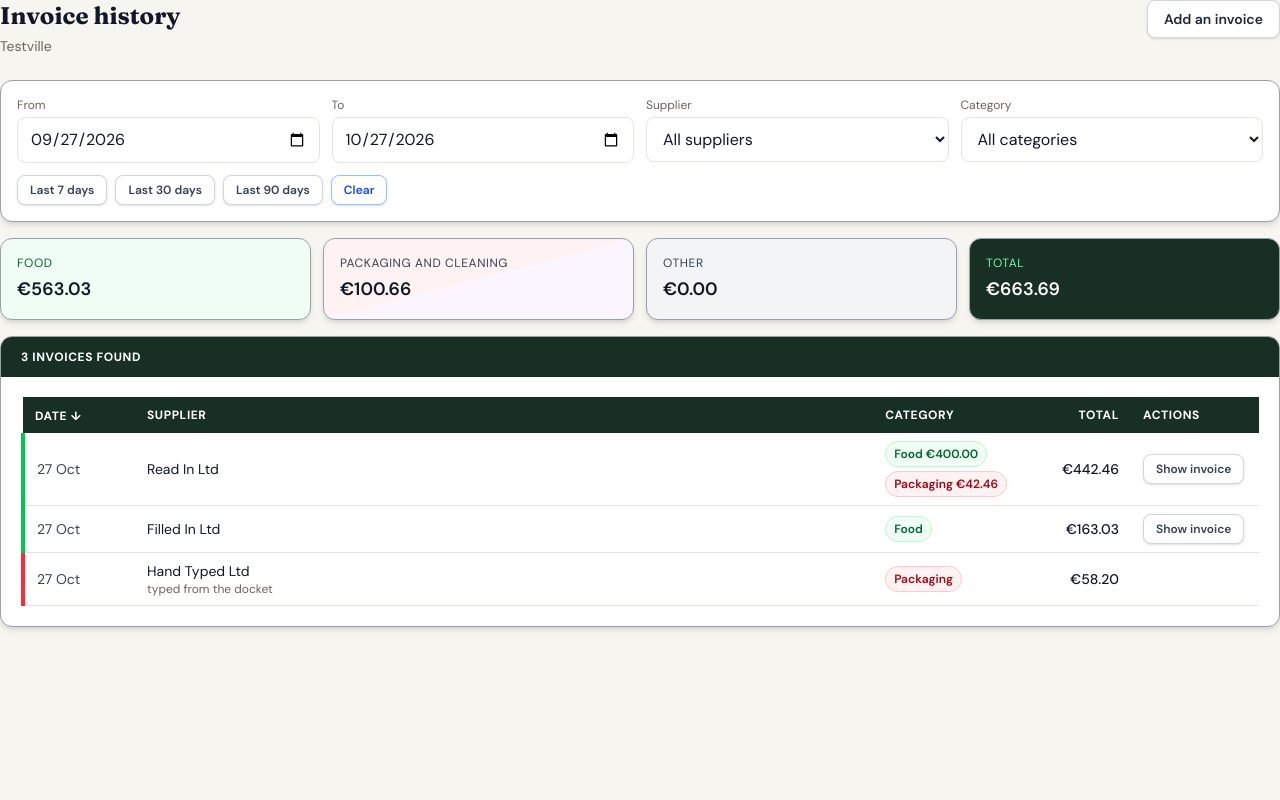
show invoice on History › opens what was read off that document
The image size is (1280, 800).
Click the button "Show invoice" in the row of "Read In Ltd": point(1194, 469) [1143, 454, 1244, 484]
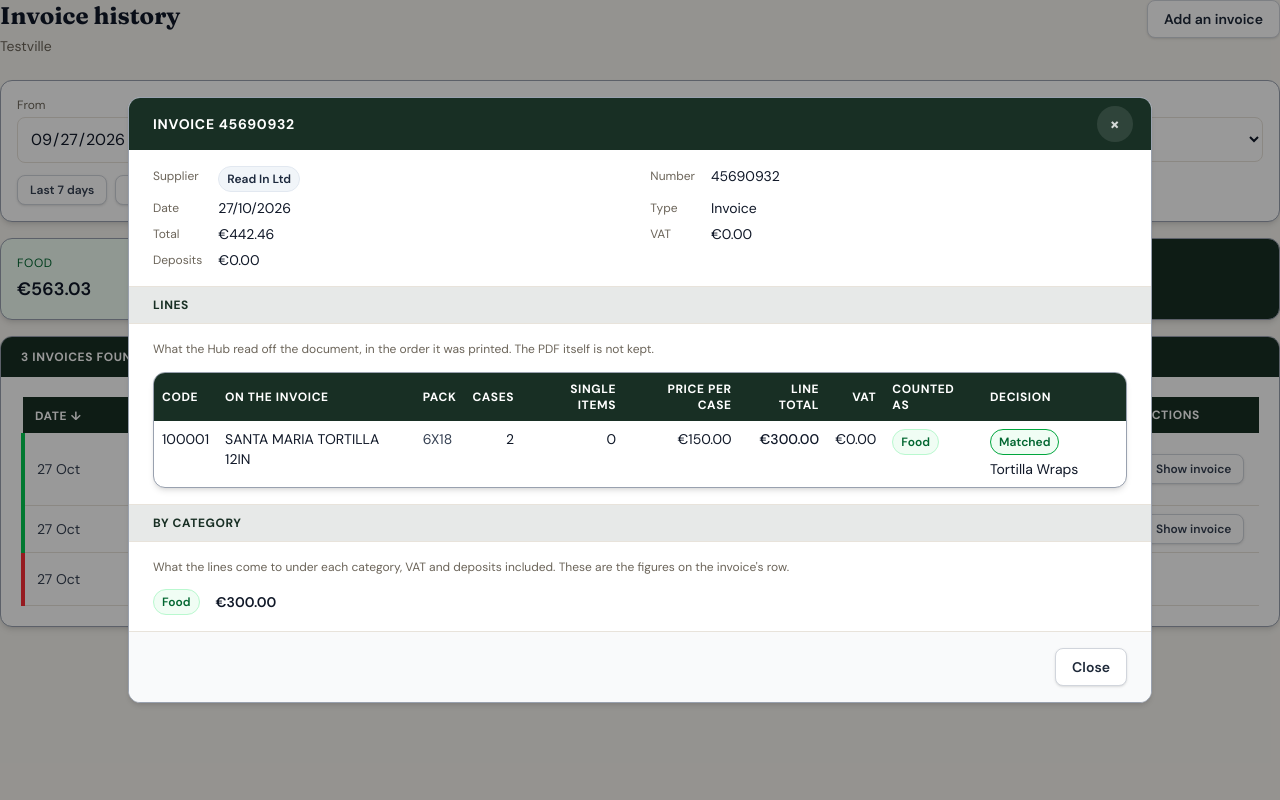
Expected: the text "SANTA MARIA TORTILLA 12IN" is shown 2 times
Click the button "Close": point(1091, 667) [1055, 648, 1127, 686]
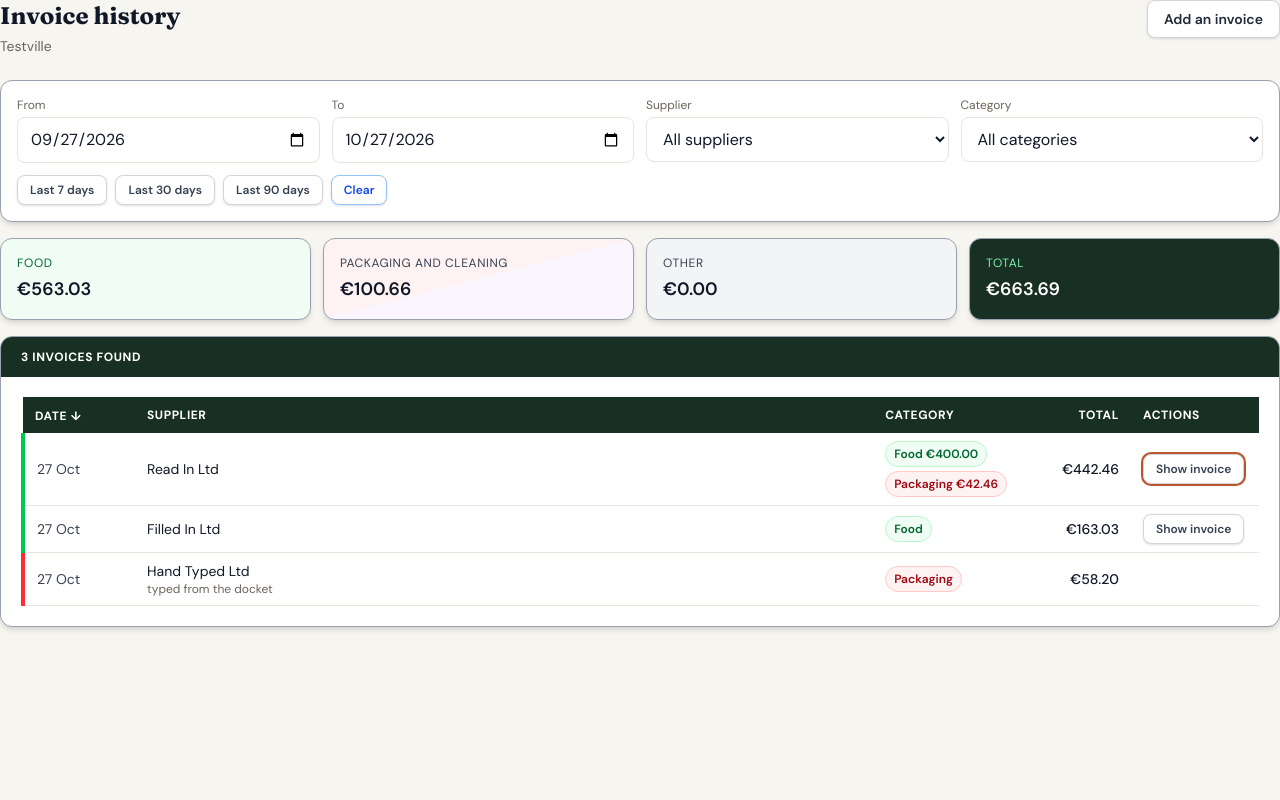
Expected: the dialog is gone
